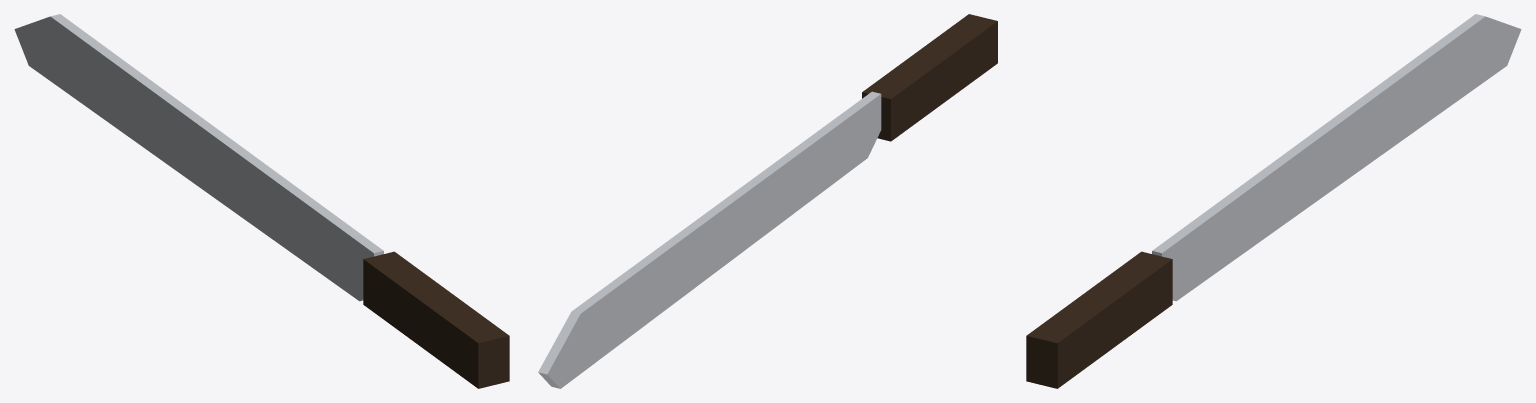
The model's file is machete.glb.
3 renders of one model, left to right at view 1: azimuth 30°, elevation 25°; view 2: azimuth 150°, elevation 25°; view 3: azimuth 330°, elevation 25°, orthographic. The views are drawn at different scales.
Visible parts, largest first — view 1: blade, Cube; view 2: blade, Cube; view 3: blade, Cube.
Part boxes in pixels (x1,y1,x2,y2): blade: (14,14,383,301); Cube: (363,251,509,388); blade: (538,91,881,388); Cube: (862,14,997,141); blade: (1152,14,1521,301); Cube: (1026,251,1172,388).
Size of the model in its own units: 0.025 by 0.05 by 0.66.
